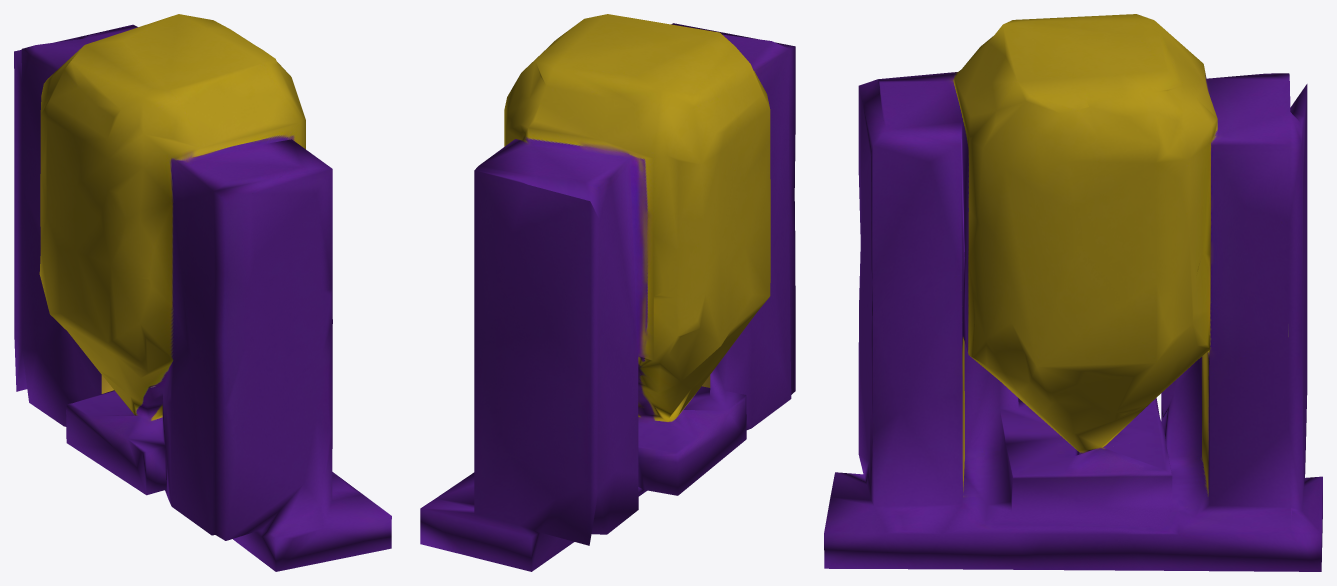
3 views of the same model, side by side, from view 1: azimuth 30°, elevation 25°; view 2: azimuth 150°, elevation 25°; view 3: azimuth 270°, elevation 25° (orthographic). The views are drawn at different scales.
Visible parts, largest first — view 1: tripo_node_0c5281af-d58e-4d00-a575-b578584f7036; view 2: tripo_node_0c5281af-d58e-4d00-a575-b578584f7036; view 3: tripo_node_0c5281af-d58e-4d00-a575-b578584f7036.
Boxes of the visible parts, x1,y1,x2,y2 form: tripo_node_0c5281af-d58e-4d00-a575-b578584f7036: (14, 14, 391, 571); tripo_node_0c5281af-d58e-4d00-a575-b578584f7036: (420, 14, 795, 571); tripo_node_0c5281af-d58e-4d00-a575-b578584f7036: (824, 14, 1322, 571).
Bounding box in the file's own units: 0.5044 × 1 × 0.9635.
1 material, 1 textured.
